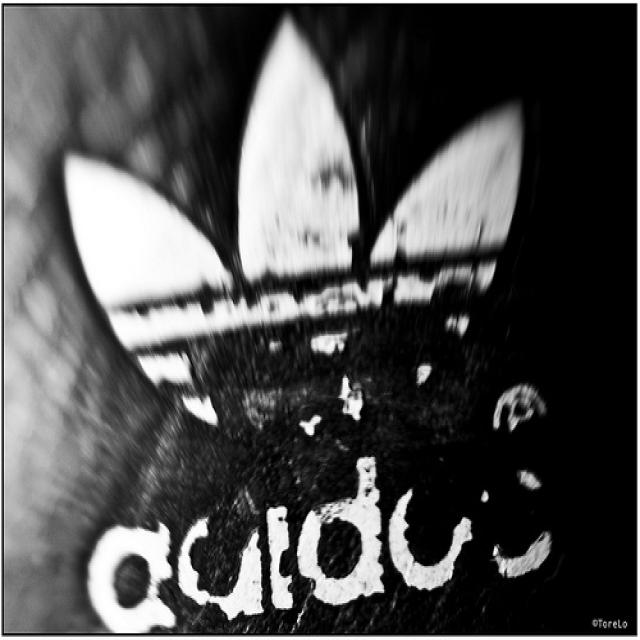adidas: (52, 8, 563, 639)
